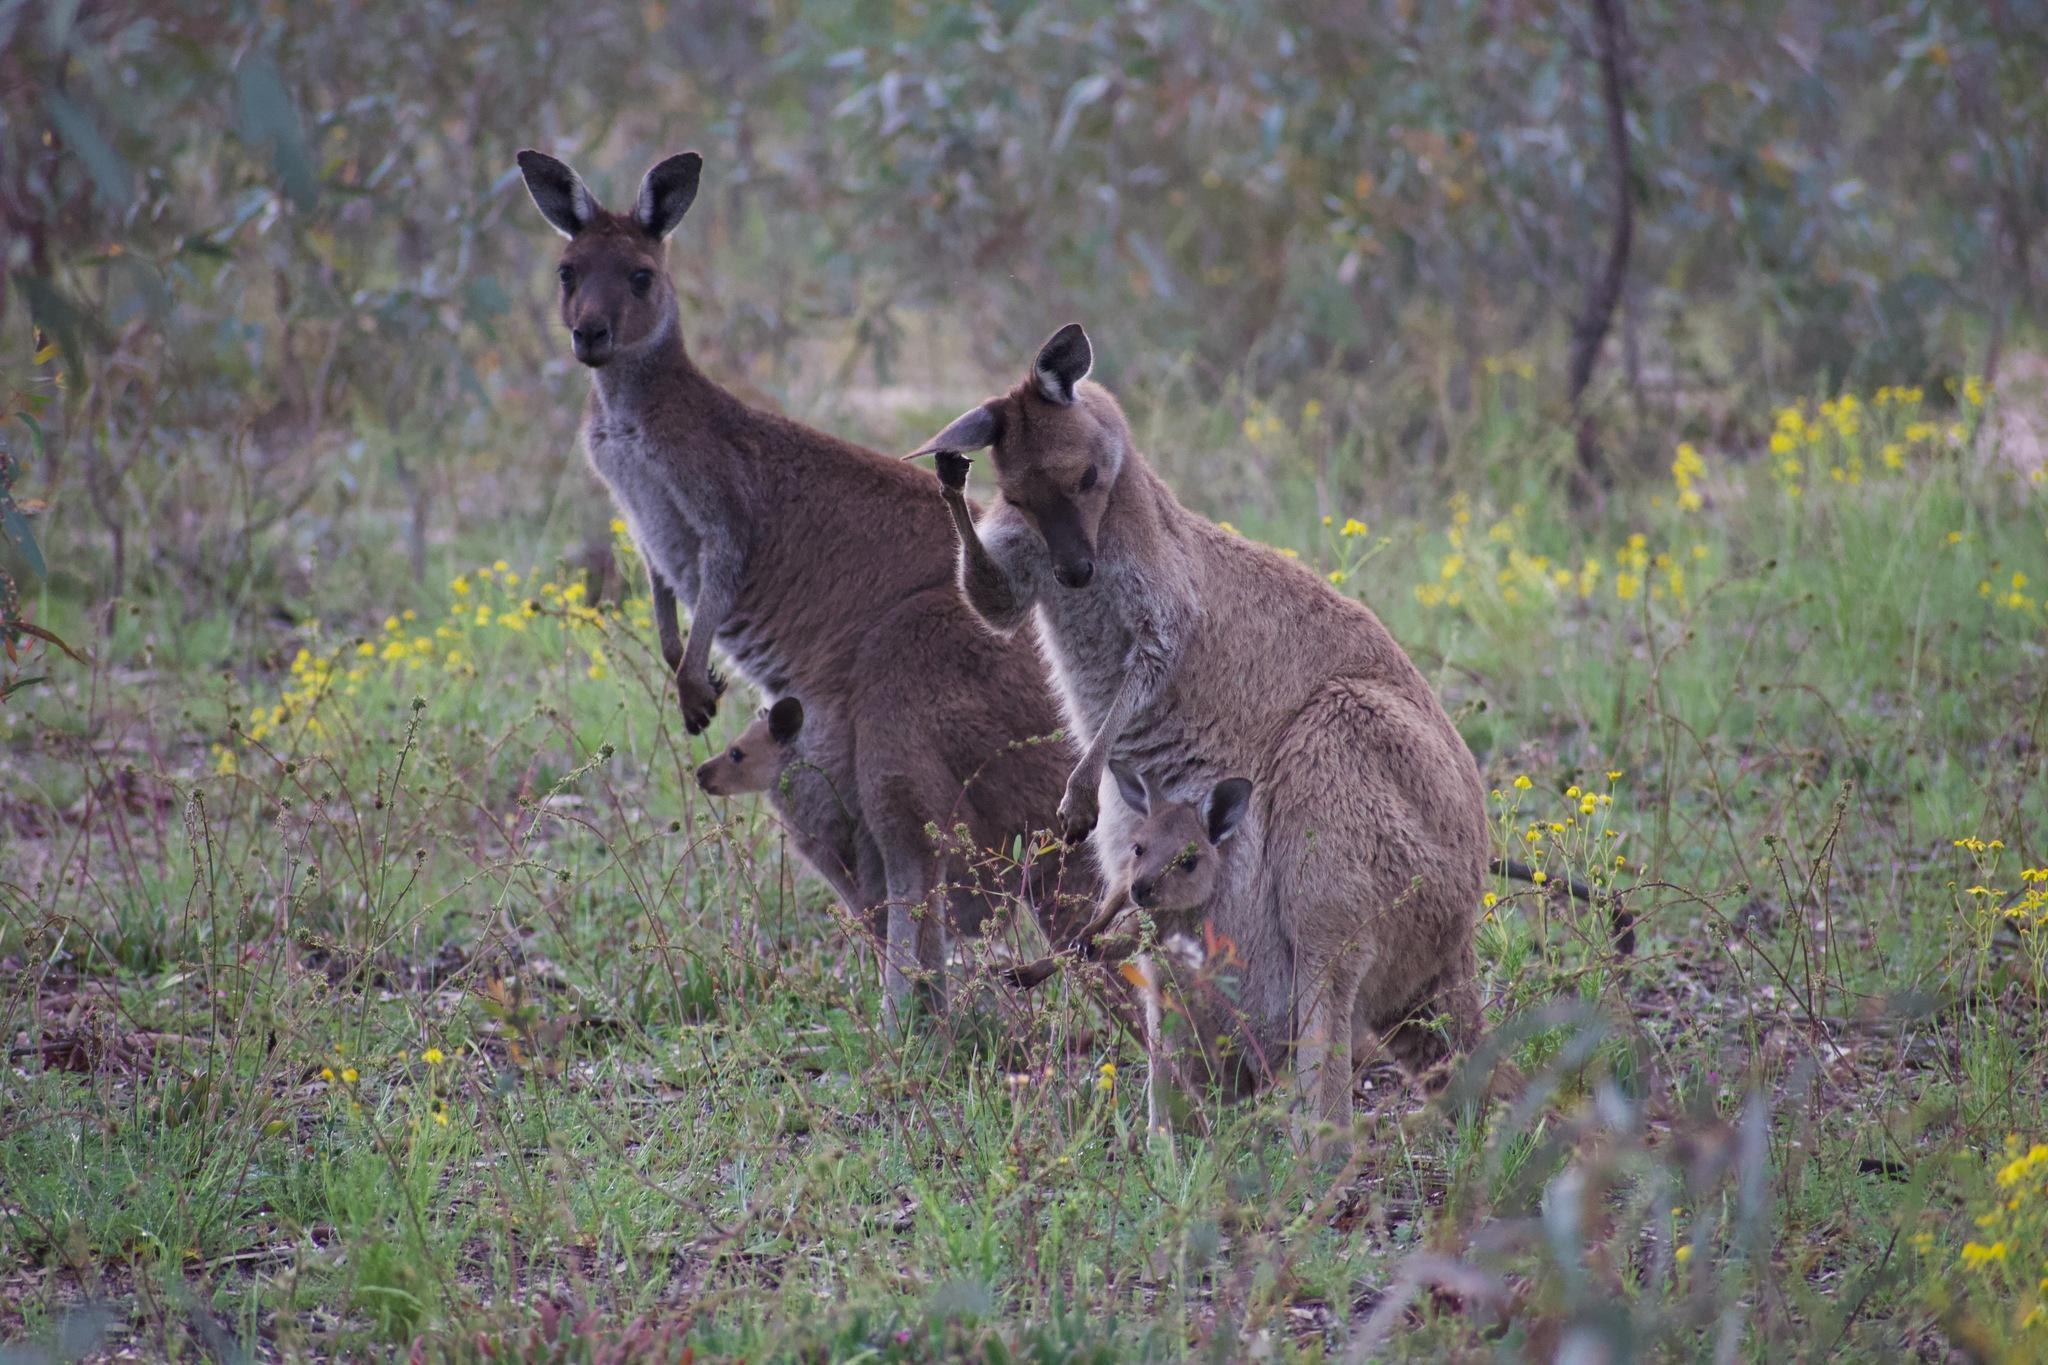Western grey kangaroo: (895, 324, 1640, 1165), (515, 146, 1105, 1086), (1010, 763, 1259, 992), (696, 696, 809, 814)
